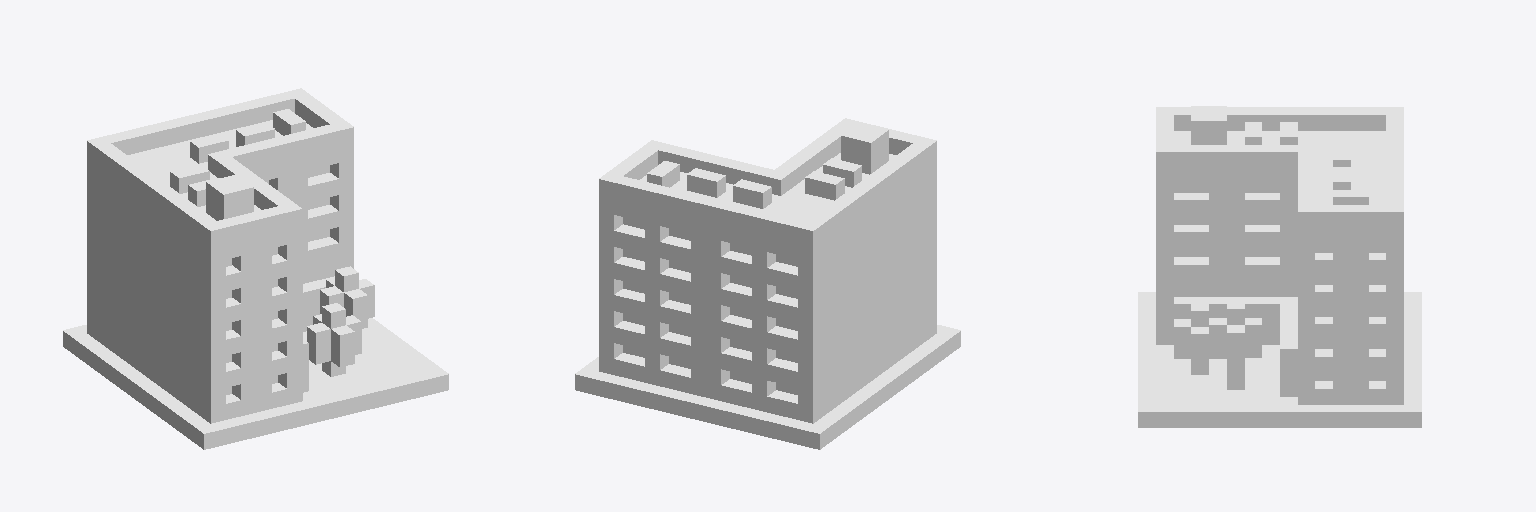
The model's file is House10.obj.
3 renders of one model, left to right at view 1: azimuth 30°, elevation 25°; view 2: azimuth 150°, elevation 25°; view 3: azimuth 270°, elevation 25°, orthographic.
Size of the model in its own units: 16 by 14 by 16.